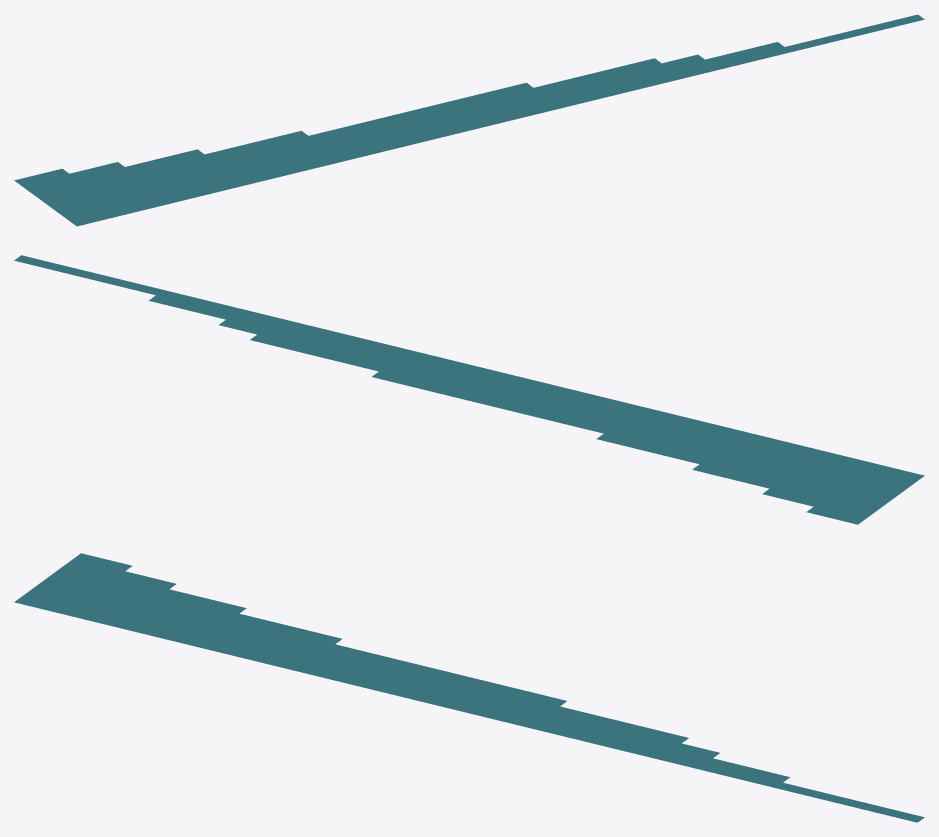
File: eau-reference-0-0.glb
3 views of the same model, one above another, from view 1: azimuth 30°, elevation 25°; view 2: azimuth 150°, elevation 25°; view 3: azimuth 330°, elevation 25° (orthographic). The views are drawn at different scales.
Parts seen in each view (by area): view 1: eau-reference-0-0; view 2: eau-reference-0-0; view 3: eau-reference-0-0.
Boxes of the visible parts, x1,y1,x2,y2 form: eau-reference-0-0: (14, 14, 924, 226); eau-reference-0-0: (14, 255, 924, 524); eau-reference-0-0: (14, 553, 924, 822).
Size of the model in its own units: 280 by 0 by 36.
